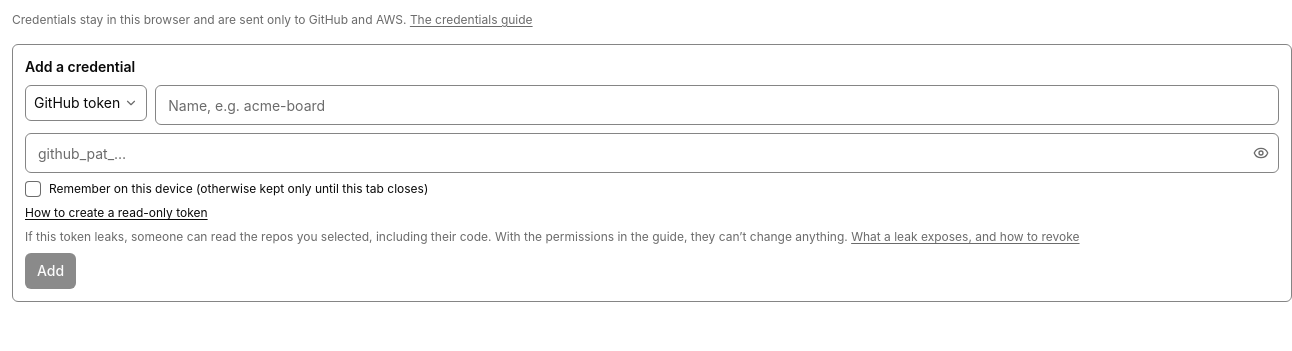
Test case: CredentialsPanel failures and form hygiene › reports a refused write, keeps the input for retry, and stores nothing
Type "acme" into the field labelled "Name". click: (717, 105)
box: [155, 85, 1279, 125]
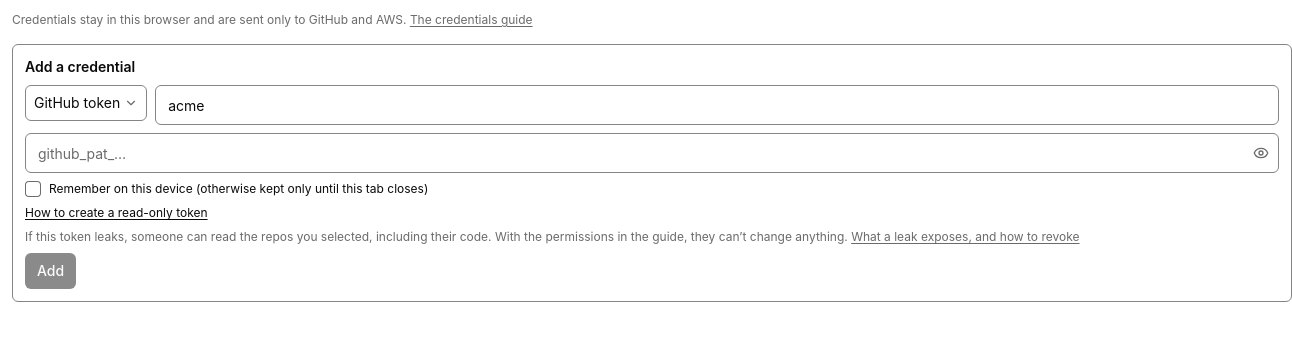
Type "github_pat_1" into the password field named "Token". click: (652, 153)
box: [25, 133, 1279, 173]
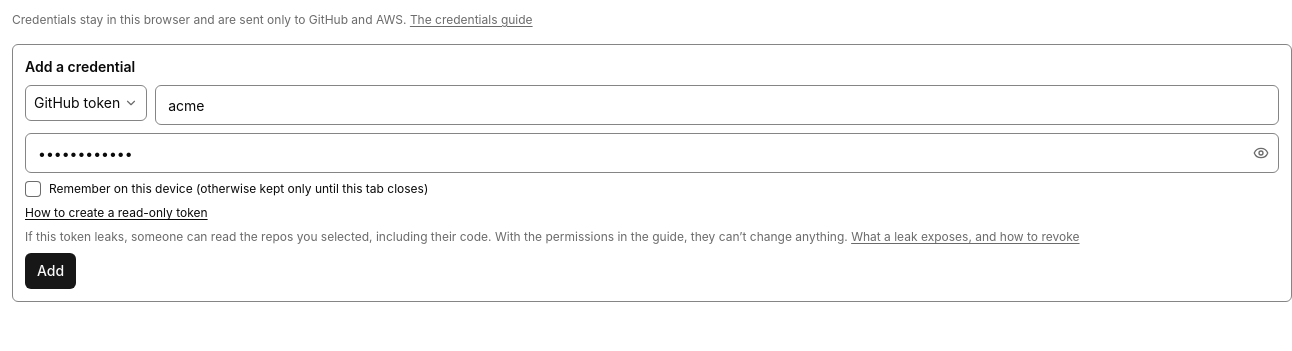
Click the button "Add". click: (51, 271)
box: [25, 253, 76, 289]
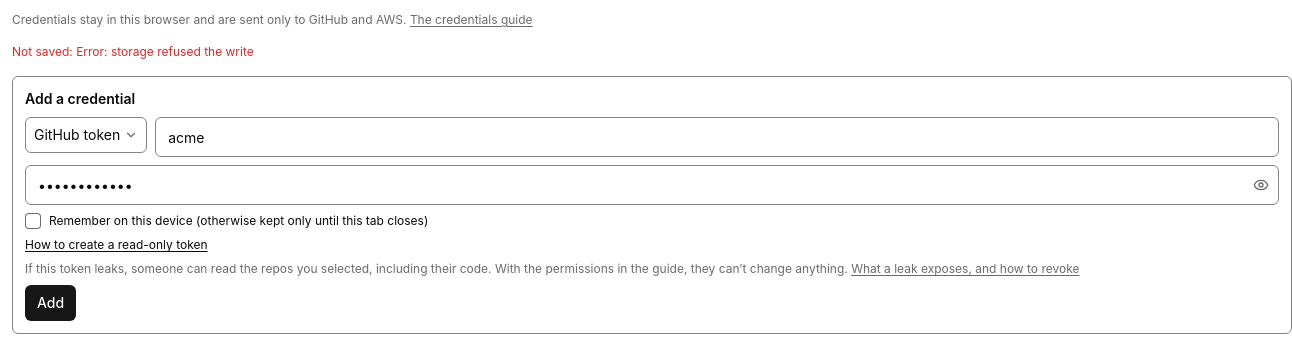
Expected: the message shows "storage refused the write", [76, 44, 254, 59]
